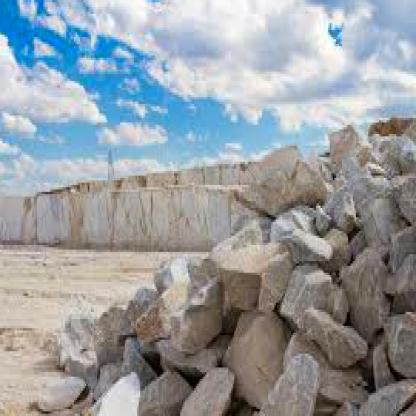Metamorphic_Marble: (228, 132, 334, 212), (212, 240, 292, 310), (250, 340, 325, 414), (342, 240, 391, 326), (179, 358, 242, 414), (90, 363, 146, 414)
